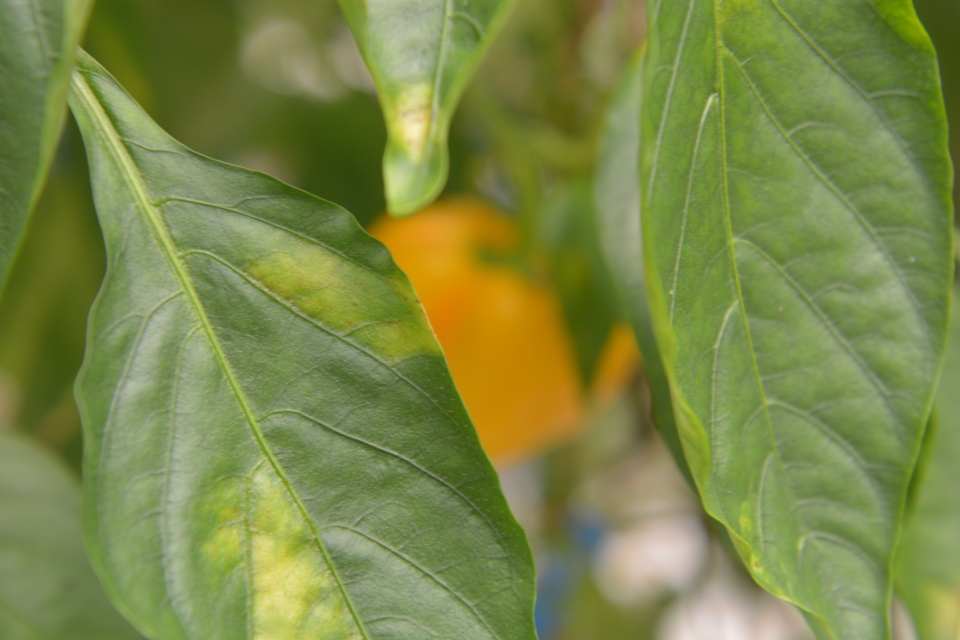fruit: (362, 194, 647, 471)
